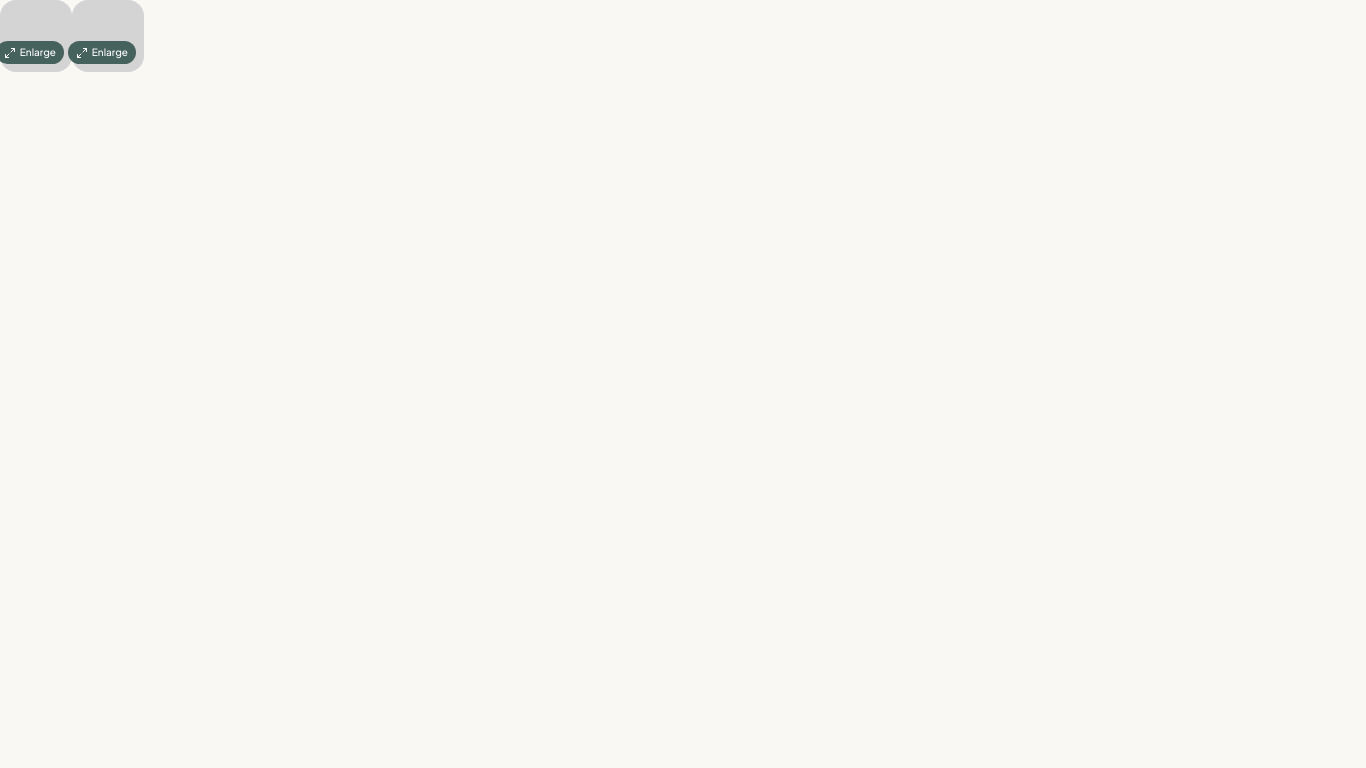
Test: EquationImage › gives every viewer its own title id
The image size is (1366, 768).
Click the button with aria-label "View Second illustration full size" at x=108, y=36, box [72,0,144,72]
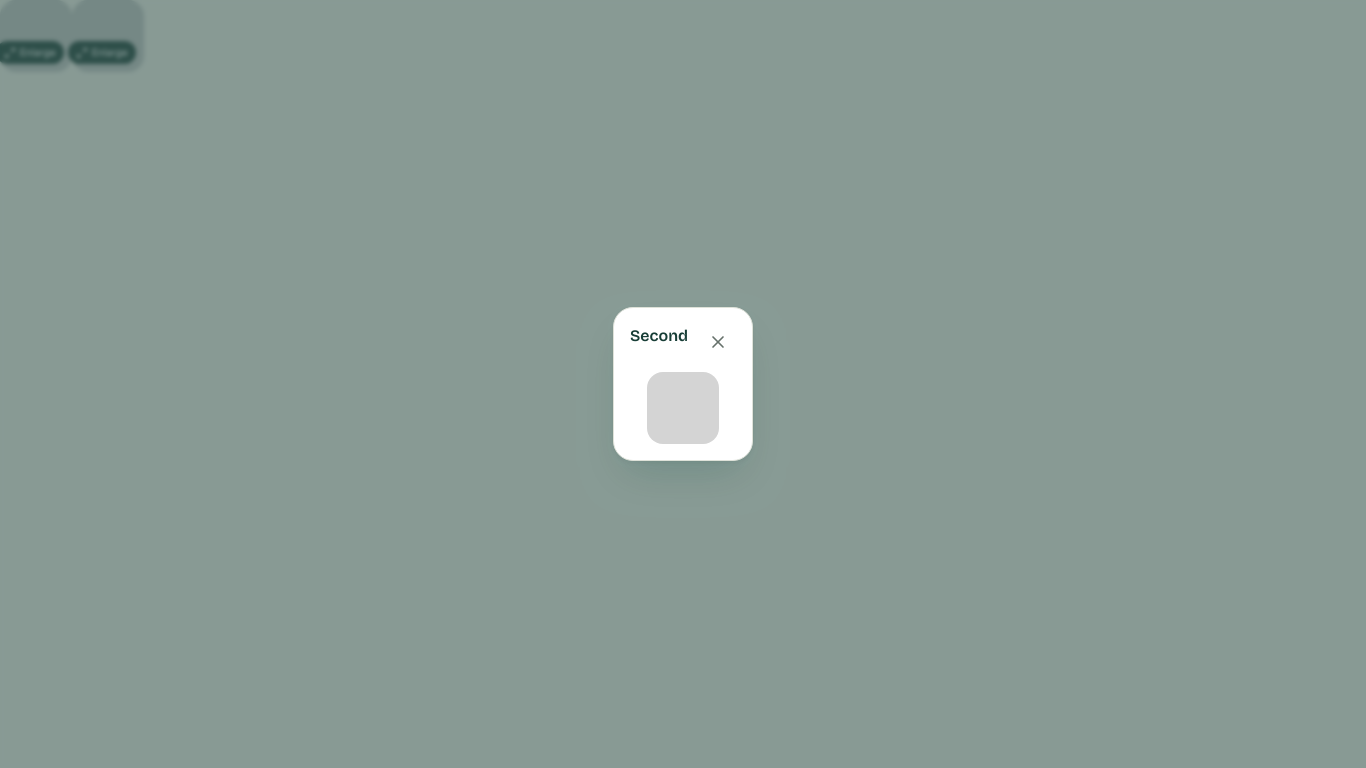
Check: the dialog "Second" is shown, box [613,307,753,461]
